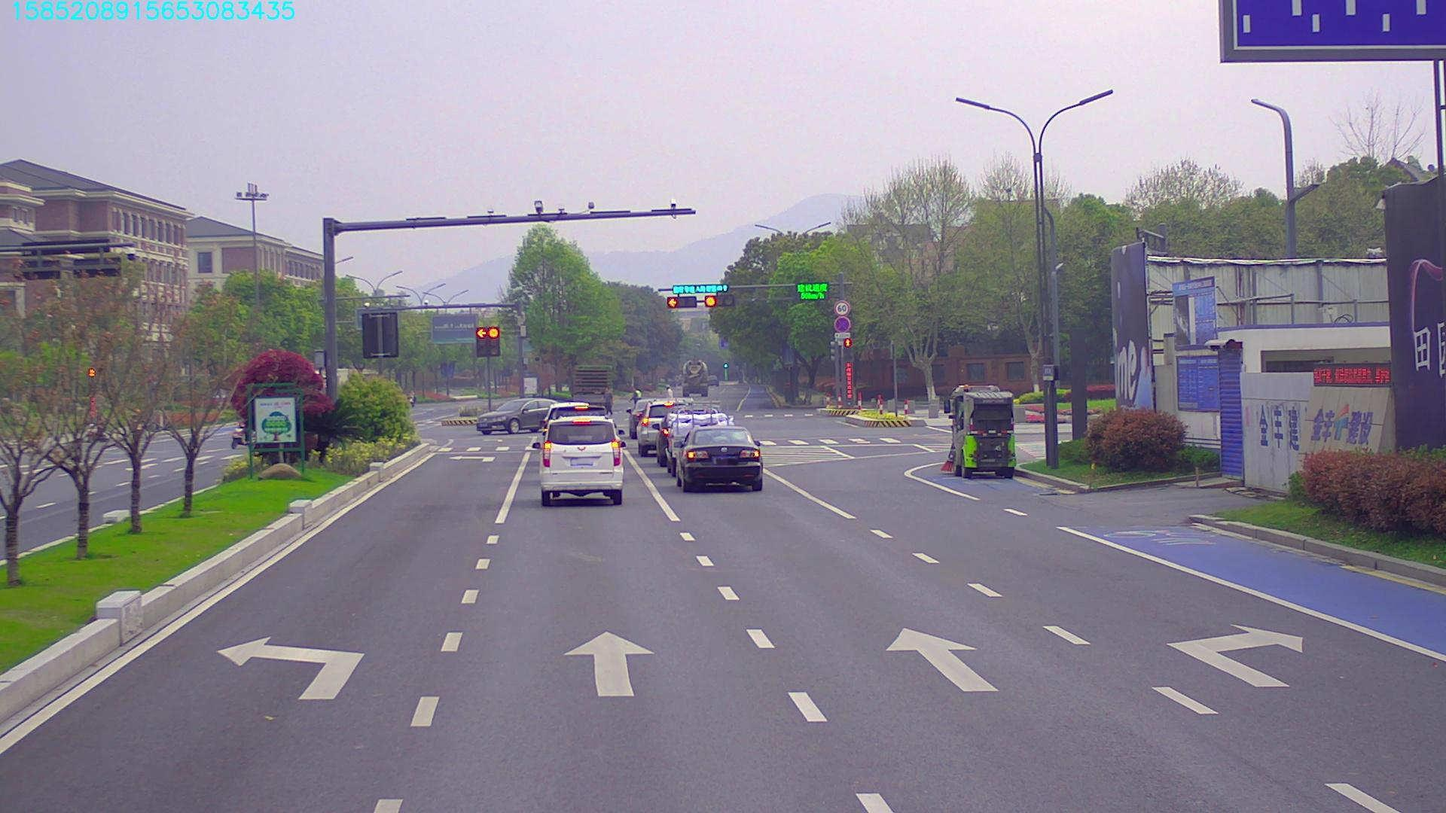red: (667, 294, 700, 309), (703, 293, 737, 304)
wait_on: (669, 280, 724, 292)
